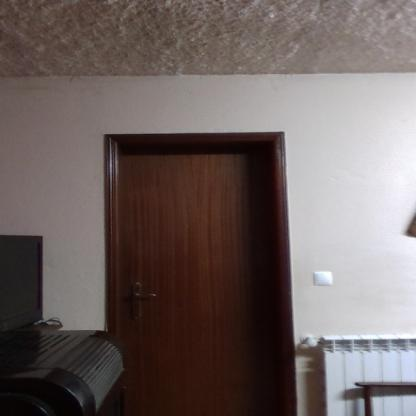door: (116, 152, 275, 416)
lever: (126, 290, 161, 304)
